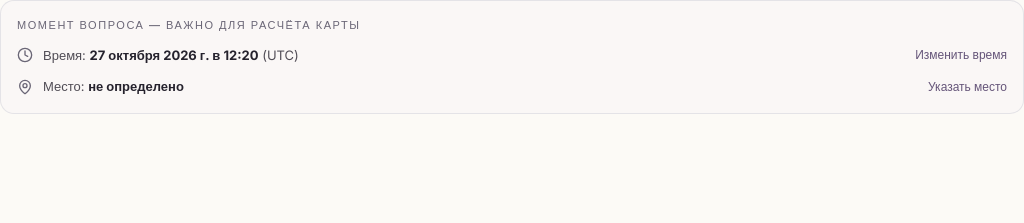
it: HoraryTimeConfirm › toggles the time editor when 'Изменить время' button is clicked
Click the button "Изменить время": x=961, y=55 [915, 46, 1007, 64]
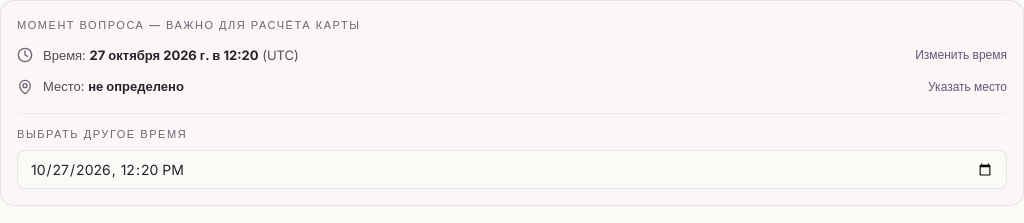
Expected: the field is shown, [17, 150, 1007, 189]
Expected: the text "Выбрать другое время" is shown, [17, 126, 187, 140]
Note: Click again to close
Click the button "Изменить время": x=961, y=55 [915, 46, 1007, 64]
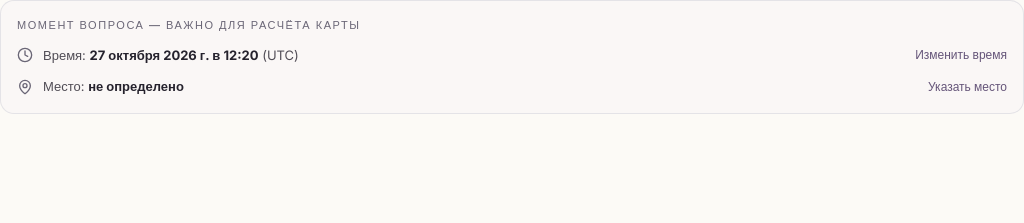
Expected: the field is gone
